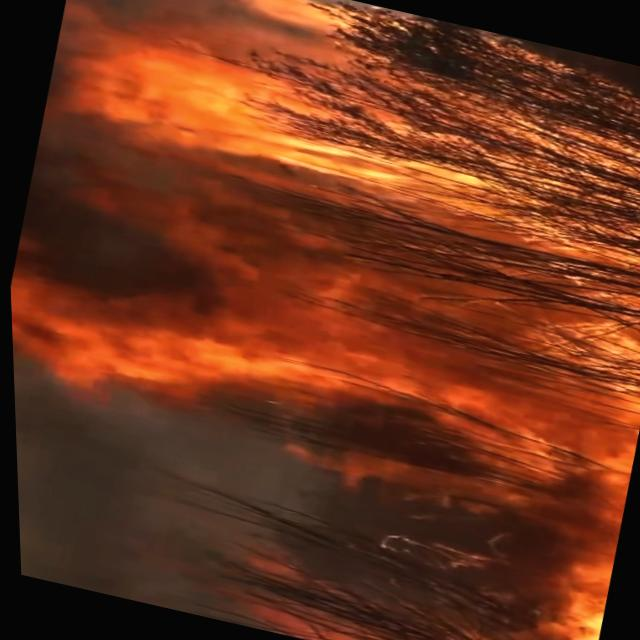fire: (7, 233, 640, 519), (66, 17, 287, 168), (502, 513, 619, 640)
smoke: (12, 398, 165, 600)
